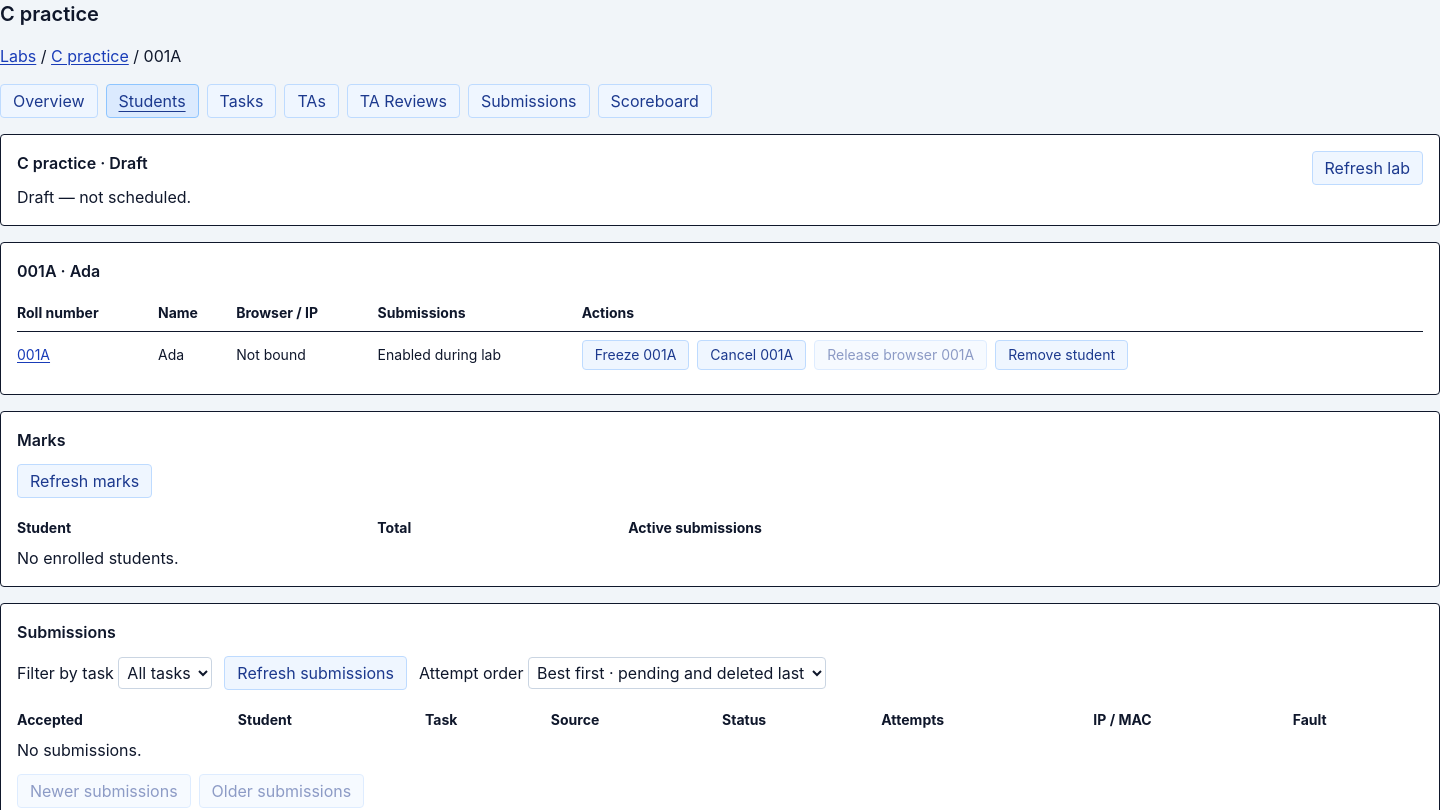
Scenario: removing enrollment from student detail returns to the roster with one confirmation
The image size is (1440, 810).
Click the button "Remove student".
click(1062, 355)  # box [995,340,1128,370]
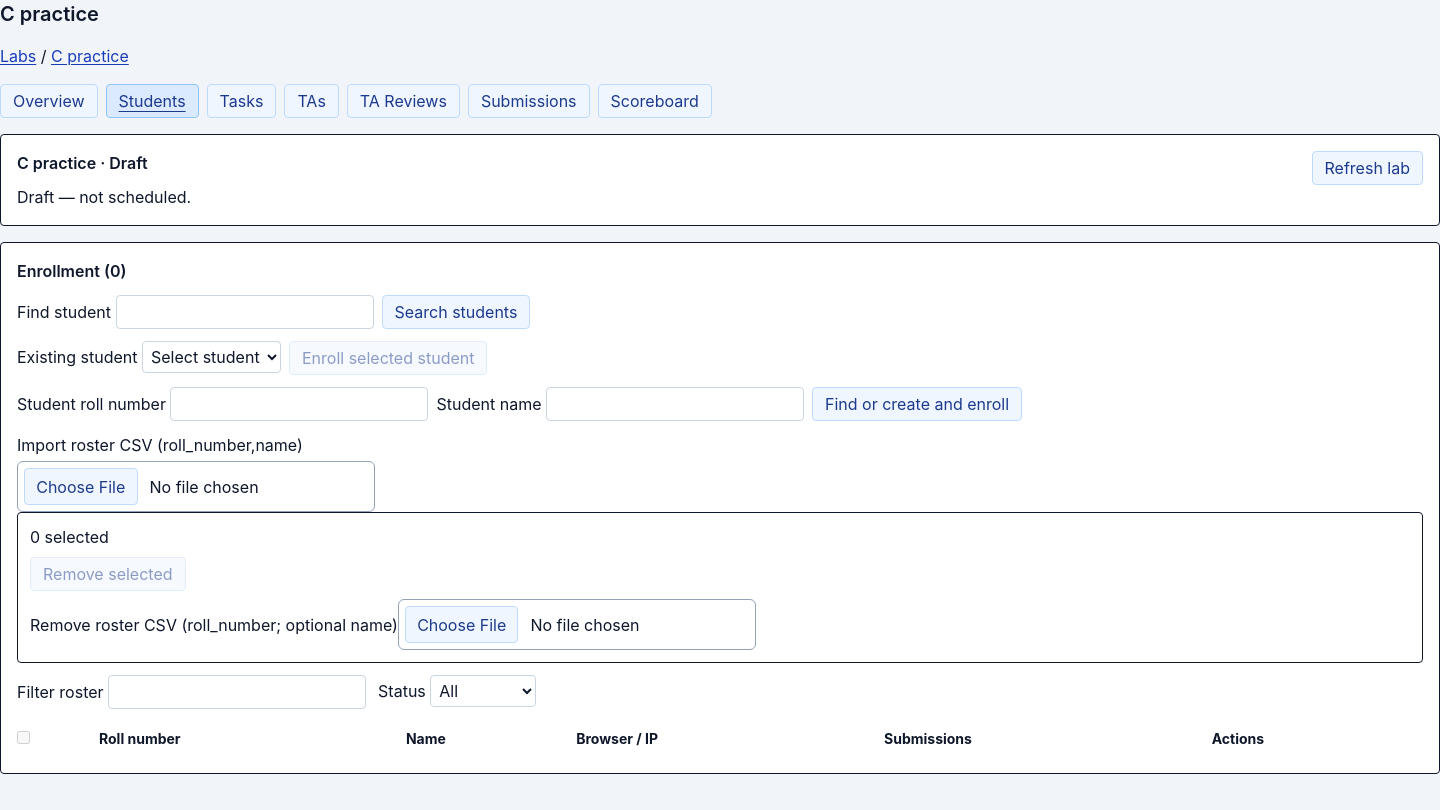
Expected: the heading "Enrollment (0)" is shown, [17,261,126,281]
